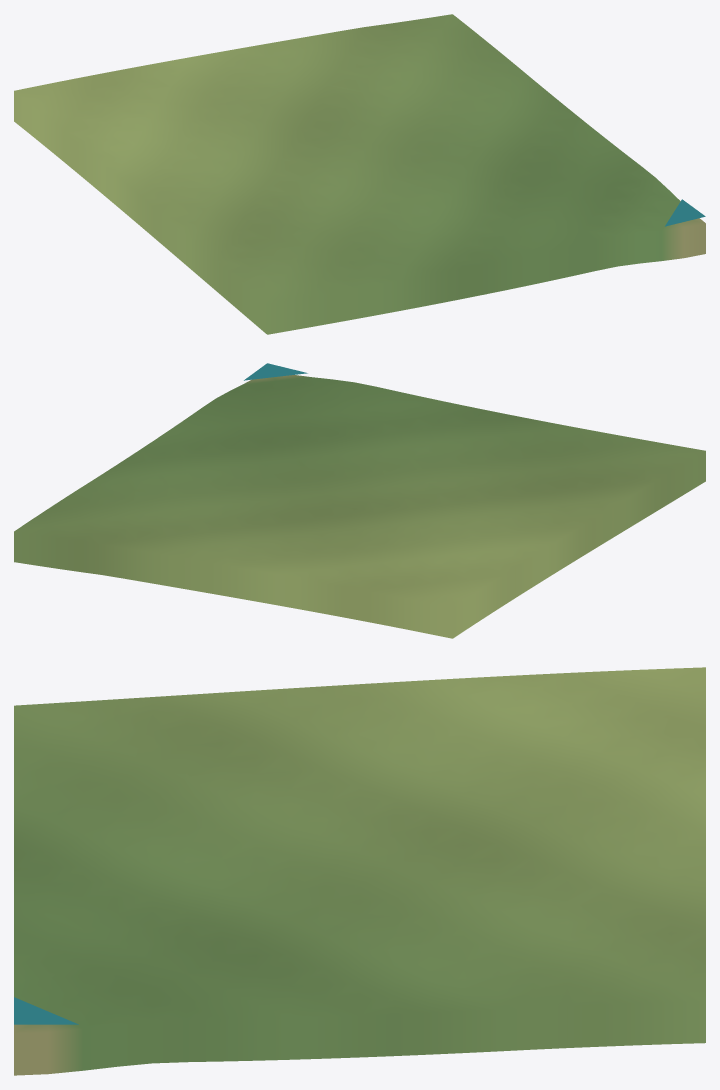
The picture shows the model from 3 angles, top to bottom: view 1: azimuth 30°, elevation 25°; view 2: azimuth 150°, elevation 25°; view 3: azimuth 270°, elevation 25°; orthographic projection. The views are drawn at different scales.
Visible parts, largest first — view 1: terrain, scenery; view 2: terrain, scenery; view 3: terrain, scenery.
Boxes of the visible parts, <box> form: terrain: <box>14,14,705,334</box>; scenery: <box>665,199,705,226</box>; terrain: <box>14,375,705,638</box>; scenery: <box>244,363,307,380</box>; terrain: <box>14,667,705,1075</box>; scenery: <box>14,997,78,1024</box>.
Bounding box in the file's own units: 30 × 5.54 × 30.
